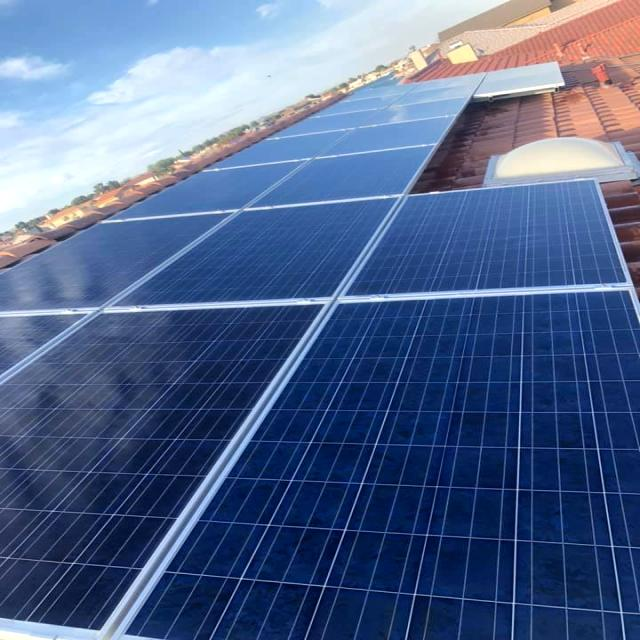crack: (86, 277, 631, 640)
